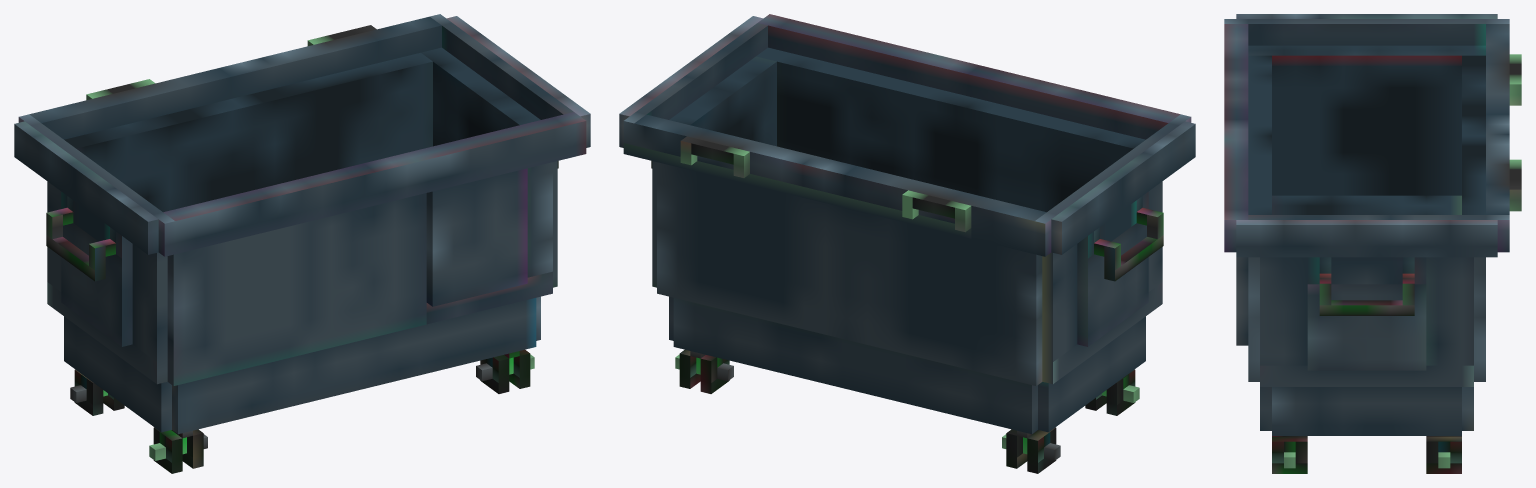
The model's file is Trash_Container_B_00.fbx.
3 views of the same model, side by side, from view 1: azimuth 30°, elevation 25°; view 2: azimuth 150°, elevation 25°; view 3: azimuth 270°, elevation 25° (orthographic). The views are drawn at different scales.
Visible parts, largest first — view 1: Trash_Container_B_00; view 2: Trash_Container_B_00; view 3: Trash_Container_B_00.
Boxes of the visible parts, <box> form: Trash_Container_B_00: <box>14,14,590,473</box>; Trash_Container_B_00: <box>619,14,1195,473</box>; Trash_Container_B_00: <box>1224,14,1521,473</box>.
Size of the model in its own units: 220 by 125 by 125.
